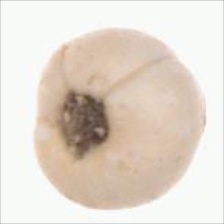L4: (34, 28, 205, 210)
